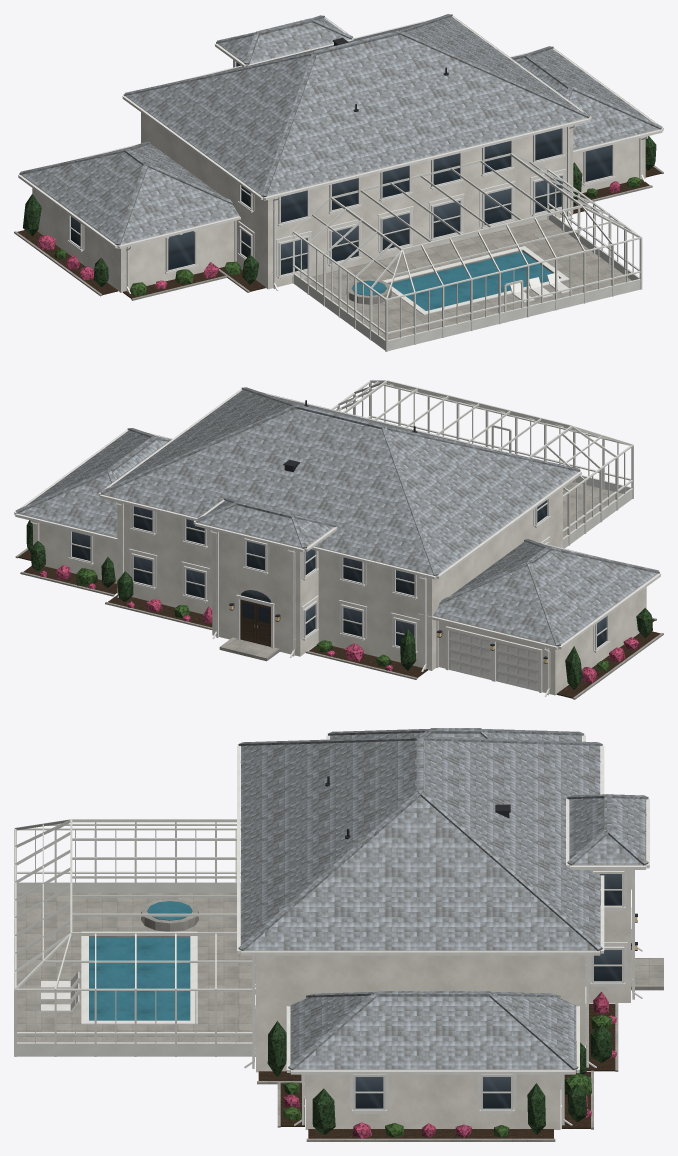
File: gulf_estate_2s.fbx
3 views of the same model, one above another, from view 1: azimuth 30°, elevation 25°; view 2: azimuth 150°, elevation 25°; view 3: azimuth 270°, elevation 25° (orthographic). The views are drawn at different scales.
Visible parts, largest first — view 1: gulf_estate_2s_LOD0; view 2: gulf_estate_2s_LOD0; view 3: gulf_estate_2s_LOD0.
Boxes of the visible parts, x1,y1,x2,y2 form: gulf_estate_2s_LOD0: [14, 14, 663, 351]; gulf_estate_2s_LOD0: [14, 380, 663, 699]; gulf_estate_2s_LOD0: [14, 728, 663, 1141].
Size of what is drawn, in the model's own units: 32.33 by 9.24 by 25.67.
Materials: 2 (2 with a texture image).
